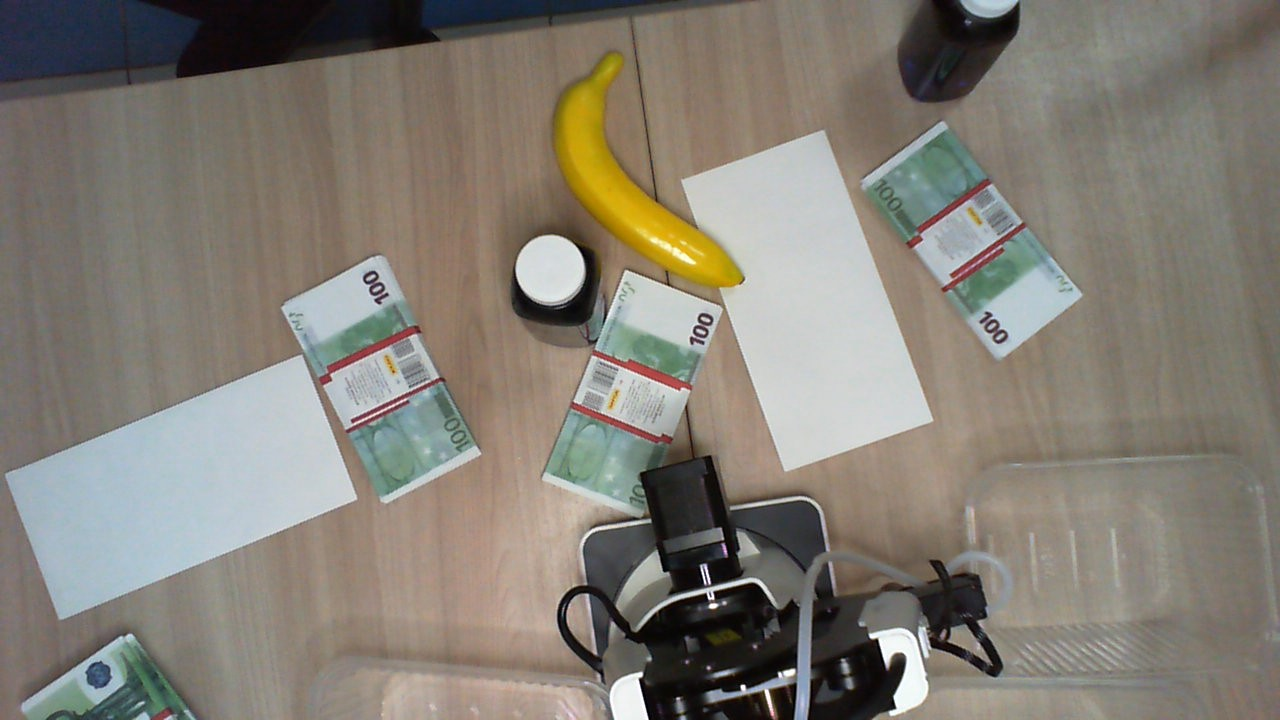banana: (552, 51, 747, 285)
bottle: (504, 240, 598, 324), (936, 1, 1021, 47)
convert: (4, 353, 356, 620), (676, 127, 928, 462)
money: (278, 254, 482, 504), (867, 125, 1083, 351), (538, 279, 722, 515), (18, 633, 203, 719)
